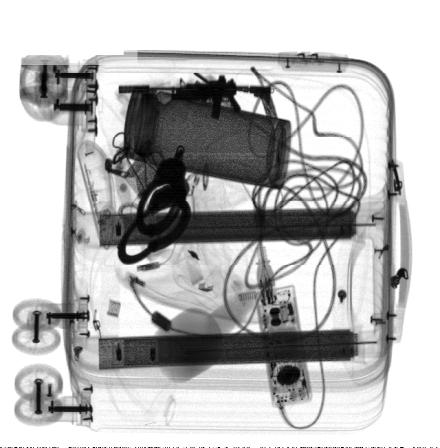Gun: (116, 71, 274, 119)
HandCuffs: (118, 143, 194, 265)
